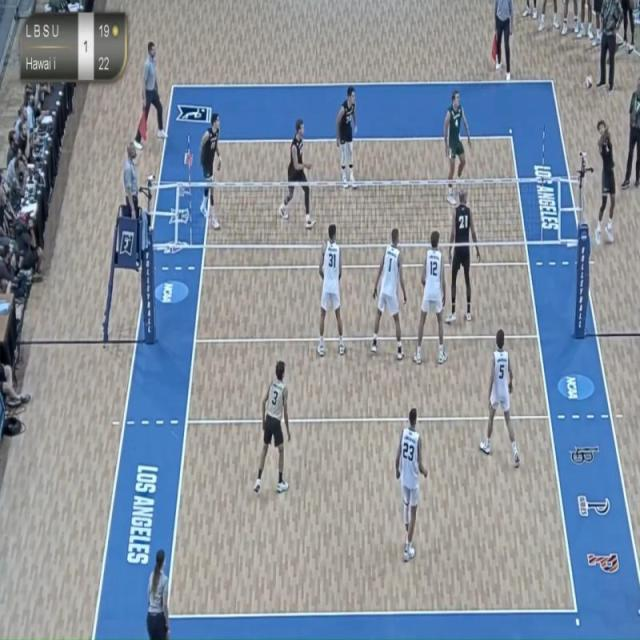volleyball: (583, 73, 595, 93)
